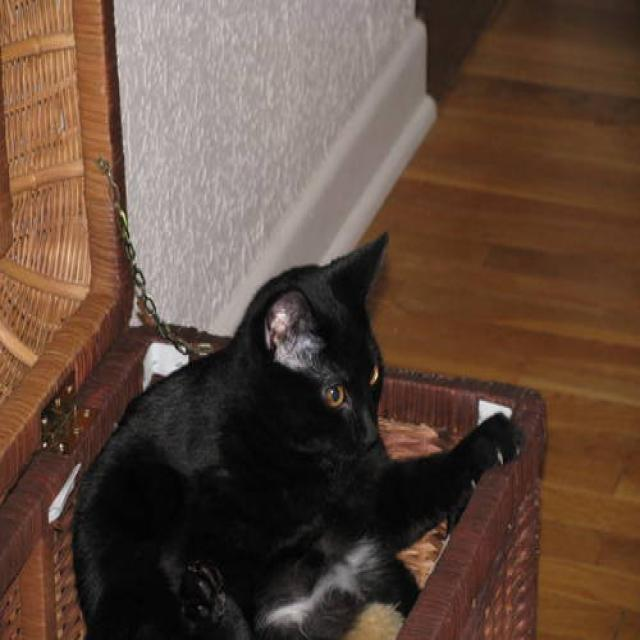Bombay: (250, 230, 388, 459)
